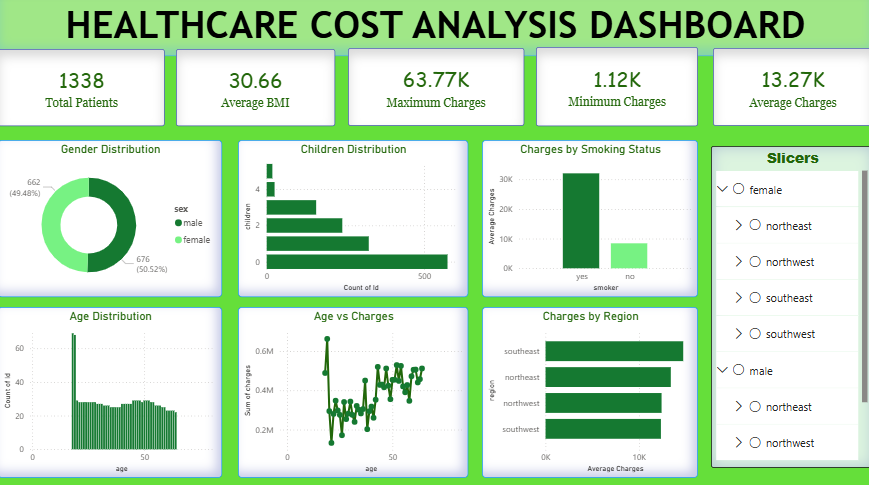

Layout of this report page (visuals, bound fields, positions):
{"tool":"powerbi","page":{"name":"Page 1","canvas":[1280,720],"ordinal":0},"visuals":[{"type":"textbox","box":[0,0,1280.5,87.8],"z":0},{"type":"card","fields":{"Values":["medical_cost.Total Patients"]},"box":[0,77.6,244.4,112.7],"z":1000},{"type":"card","fields":{"Values":["medical_cost.Average Charges"]},"box":[1046.3,76.1,234.1,114.1],"z":2000},{"type":"card","fields":{"Values":["medical_cost.Maximum Charges"]},"box":[512.2,76.1,257.6,114.1],"z":3000},{"type":"card","fields":{"Values":["medical_cost.Minimum Charges"]},"box":[787.3,74.6,237.1,115.6],"z":4000},{"type":"card","fields":{"Values":["medical_cost.Average BMI"]},"box":[260.5,77.6,232.7,112.7],"z":5000},{"type":"donutChart","title":"Gender Distribution","fields":{"Category":["medical_cost.sex"],"Y":["CountNonNull(medical_cost.Id)"]},"box":[0,210.7,327.8,229.8],"z":6000},{"type":"clusteredColumnChart","title":"Age Distribution","fields":{"Category":["medical_cost.age"],"Y":["CountNonNull(medical_cost.Id)"]},"box":[0,455.1,327.8,250.2],"z":7000},{"type":"barChart","title":"Children Distribution","fields":{"Category":["medical_cost.children"],"Y":["CountNonNull(medical_cost.Id)"]},"box":[351.2,210.7,336.6,229.8],"z":8000},{"type":"barChart","title":"Charges by Region","fields":{"Category":["medical_cost.region"],"Y":["medical_cost.Average Charges"]},"box":[708.3,455.1,316.1,250.2],"z":9000},{"type":"clusteredColumnChart","title":"Charges by Smoking Status","fields":{"Category":["medical_cost.smoker"],"Y":["medical_cost.Average Charges"]},"box":[708.3,210.7,316.1,229.8],"z":10000},{"type":"lineChart","title":"Age vs Charges","fields":{"Category":["medical_cost.age"],"Y":["Sum(medical_cost.charges)"]},"box":[351.2,455.1,336.6,250.2],"z":11000},{"type":"listSlicer","title":"Slicers","fields":{"Values":["medical_cost.sex","medical_cost.region","medical_cost.smoker","medical_cost.children"]},"box":[1043.4,219.5,237.1,471.2],"z":12000}]}

Visuals, with their boxes in screenshot pixels (x1, y1, x2, y2), scaled from the page's 1280x720 canvas onto the 869x485 screenshot:
textbox: bbox=[0, 0, 868, 59]
card - medical_cost.Total Patients: bbox=[0, 52, 166, 128]
card - medical_cost.Average Charges: bbox=[710, 51, 868, 128]
card - medical_cost.Maximum Charges: bbox=[348, 51, 523, 128]
card - medical_cost.Minimum Charges: bbox=[535, 50, 695, 128]
card - medical_cost.Average BMI: bbox=[177, 52, 335, 128]
"Gender Distribution" donutChart: bbox=[0, 142, 223, 297]
"Age Distribution" clusteredColumnChart: bbox=[0, 307, 223, 475]
"Children Distribution" barChart: bbox=[238, 142, 467, 297]
"Charges by Region" barChart: bbox=[481, 307, 695, 475]
"Charges by Smoking Status" clusteredColumnChart: bbox=[481, 142, 695, 297]
"Age vs Charges" lineChart: bbox=[238, 307, 467, 475]
"Slicers" listSlicer: bbox=[708, 148, 868, 465]
